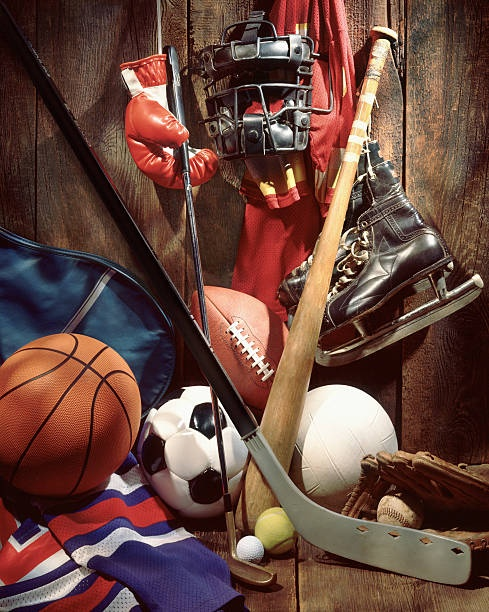bita: (243, 26, 393, 527)
